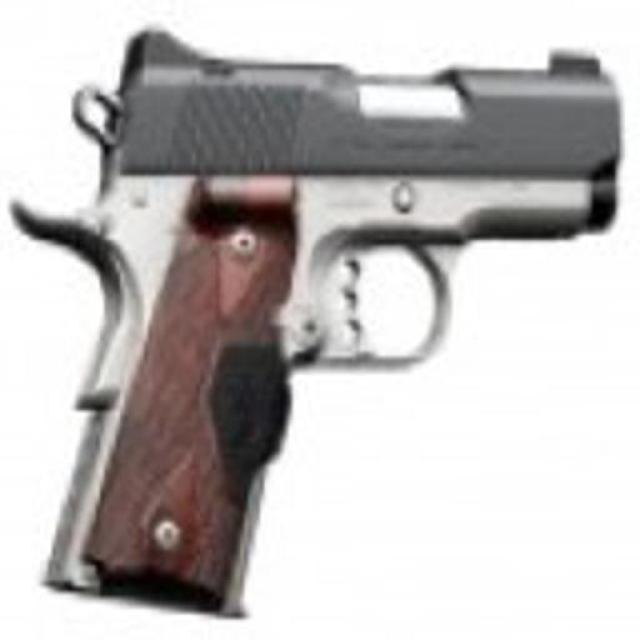pistol: (7, 31, 620, 629)
